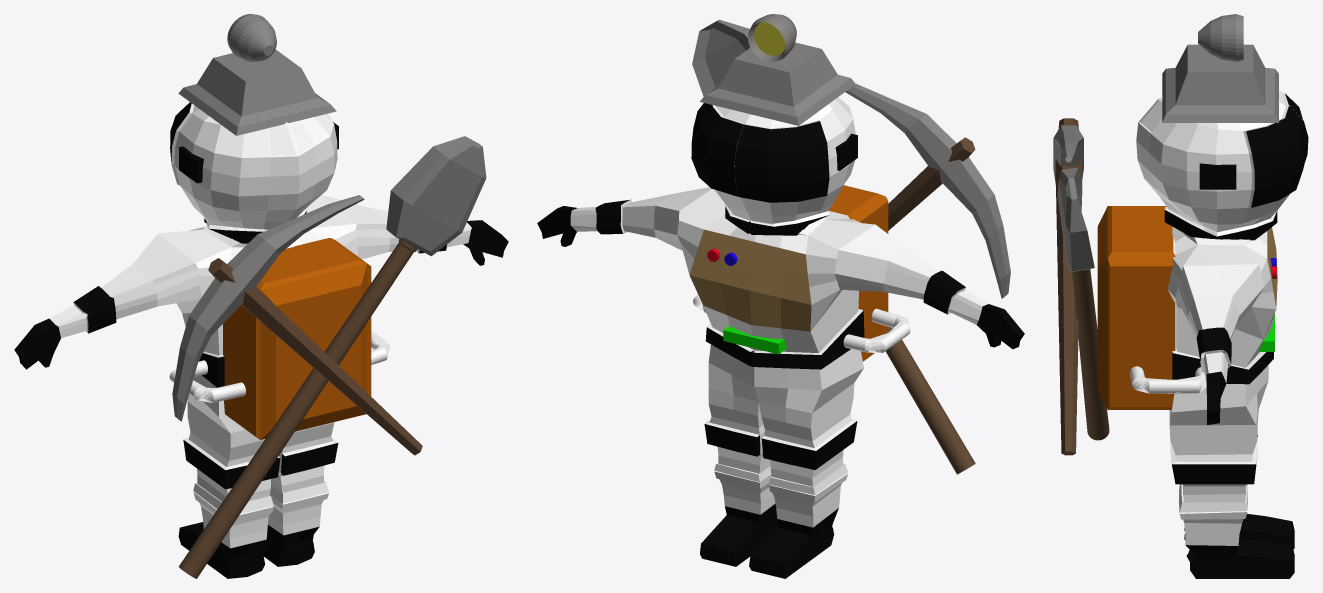
Rendered from Space Miner Final.fbx.
The picture shows the model from 3 angles, left to right: view 1: azimuth 30°, elevation 25°; view 2: azimuth 150°, elevation 25°; view 3: azimuth 270°, elevation 25°; orthographic projection.
Visible parts, largest first — view 1: Space Miner; view 2: Space Miner; view 3: Space Miner.
Boxes of the visible parts, box(x1,y1,x2,y2) form: Space Miner: box(14, 14, 508, 578); Space Miner: box(537, 14, 1024, 578); Space Miner: box(1053, 14, 1308, 578).
Size of the model in its own units: 306 by 323 by 138.
